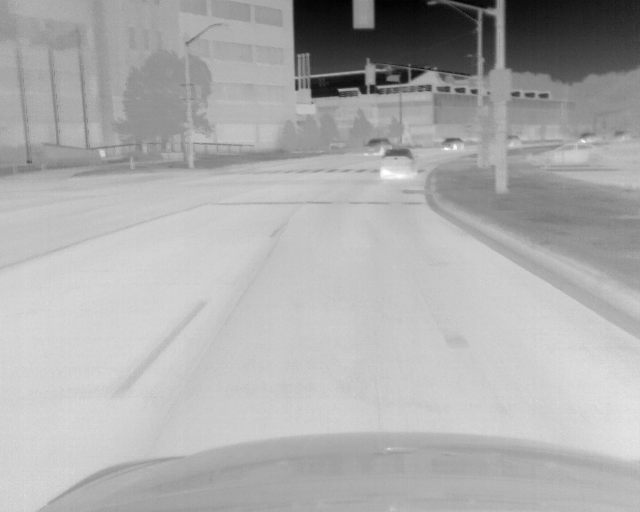car: (379, 148, 418, 180), (361, 138, 391, 157), (441, 137, 463, 151), (505, 135, 521, 149), (580, 132, 596, 143)
